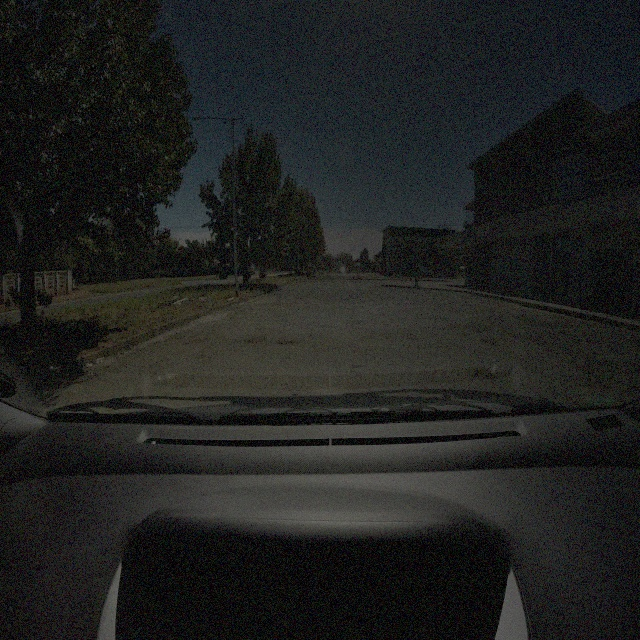pothole: (471, 364, 500, 382), (242, 332, 267, 346), (480, 336, 499, 349), (278, 338, 294, 348), (348, 318, 363, 326)
